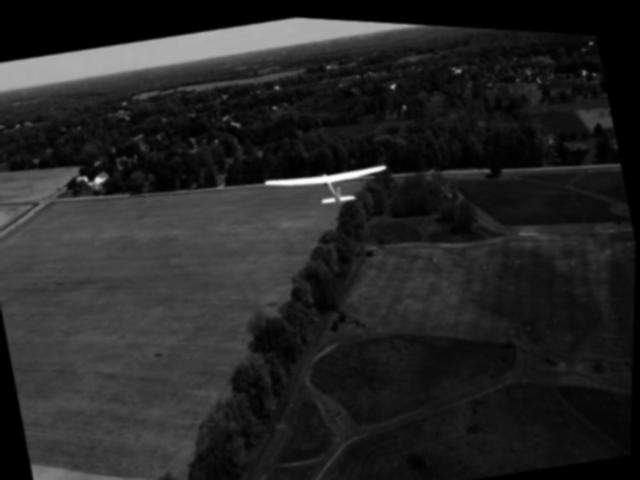hedef: (260, 136, 403, 225)
